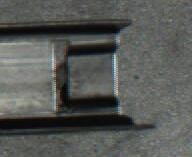press: (21, 18, 145, 130)
